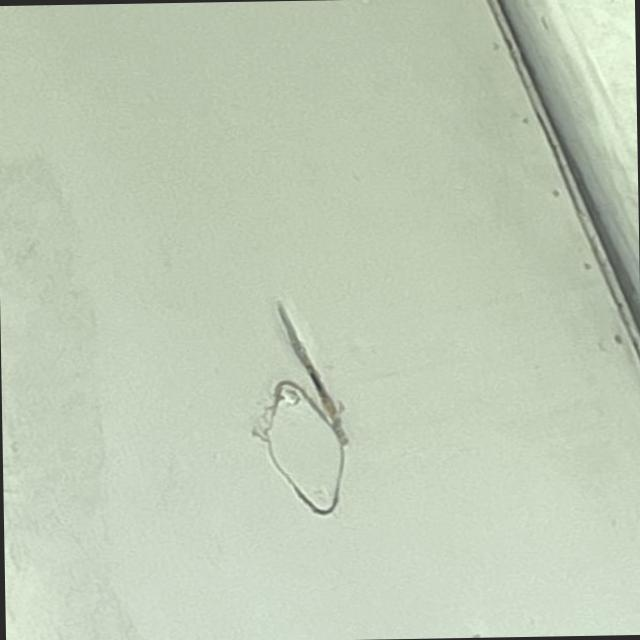crack: (252, 295, 364, 452)
